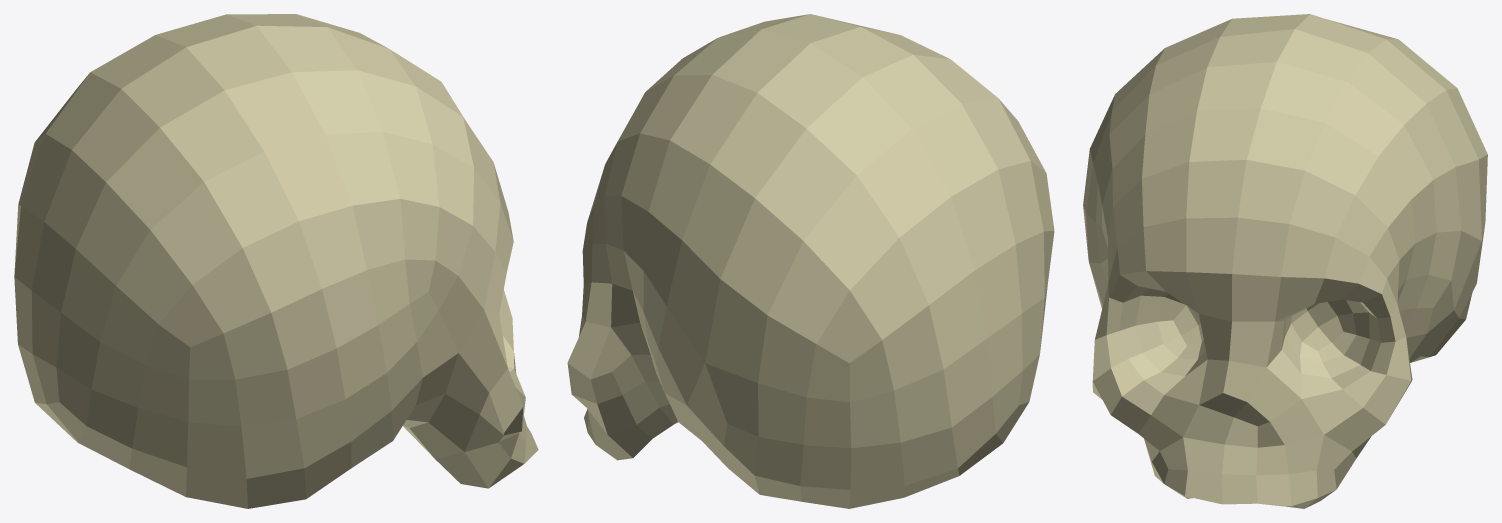
The model's file is medieval_skull.fbx.
The picture shows the model from 3 angles, left to right: view 1: azimuth 30°, elevation 25°; view 2: azimuth 150°, elevation 25°; view 3: azimuth 270°, elevation 25°; orthographic projection. The views are drawn at different scales.
Parts seen in each view (by area): view 1: SKULLBO; view 2: SKULLBO; view 3: SKULLBO.
Part boxes in pixels (box(x1,y1,x2,y2)): SKULLBO: box(14, 14, 538, 508); SKULLBO: box(567, 14, 1054, 508); SKULLBO: box(1083, 14, 1487, 508).
Size of the model in its own units: 2.68 by 2.64 by 2.44.
